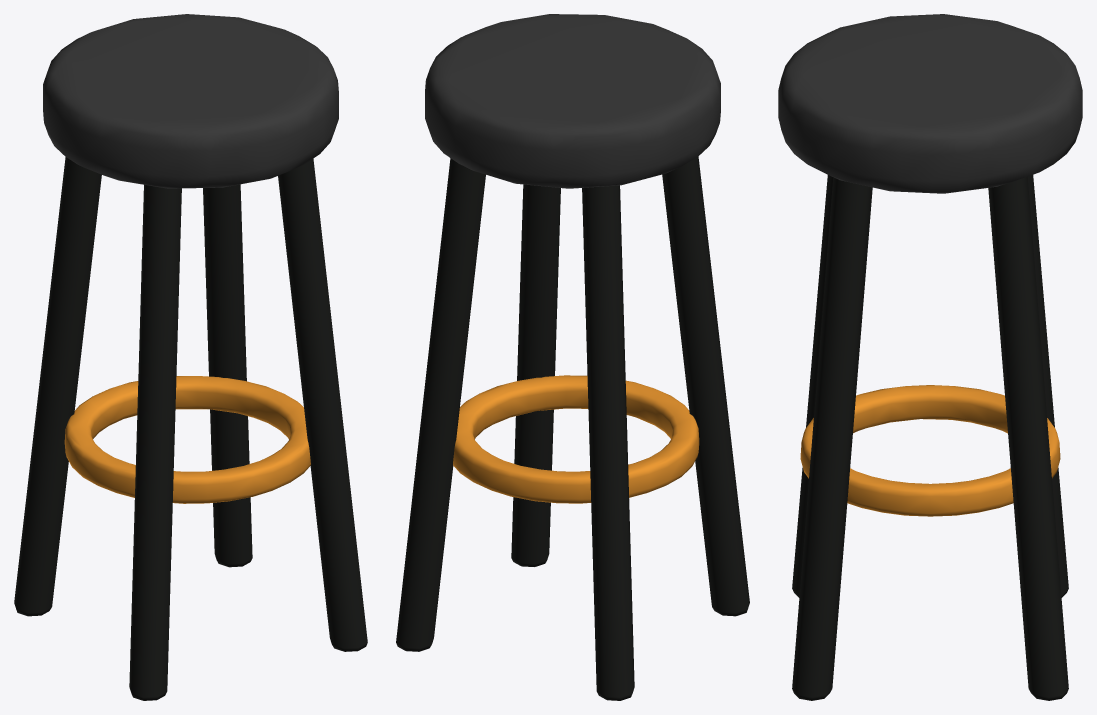
The model's file is barstool_04_black.fbx.
3 renders of one model, left to right at view 1: azimuth 30°, elevation 25°; view 2: azimuth 150°, elevation 25°; view 3: azimuth 270°, elevation 25°, orthographic. The views are drawn at different scales.
Visible parts, largest first — view 1: barstool_04_black; view 2: barstool_04_black; view 3: barstool_04_black.
Part boxes in pixels (x1,y1,x2,y2): barstool_04_black: (14, 14, 367, 700); barstool_04_black: (396, 14, 749, 700); barstool_04_black: (778, 14, 1082, 700).
Size of the model in its own units: 43.49 by 90.36 by 43.49.
Materials: 2 (2 with a texture image).
